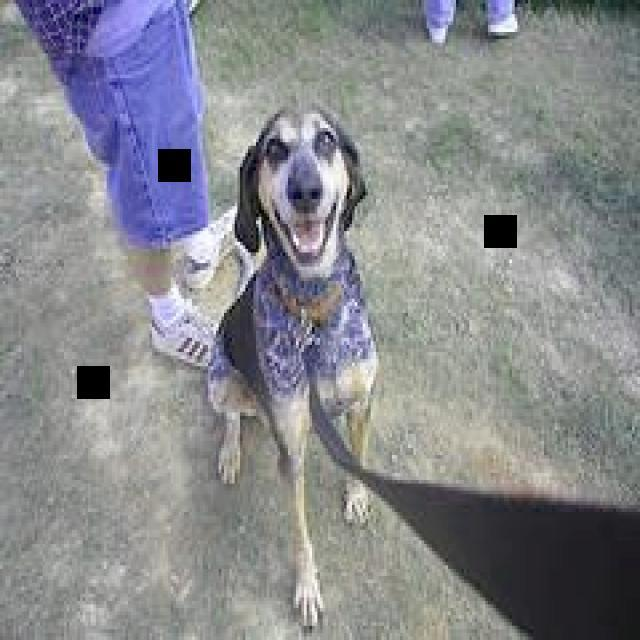adult_dog: (204, 102, 393, 627)
non-dog: (21, 1, 228, 373)
